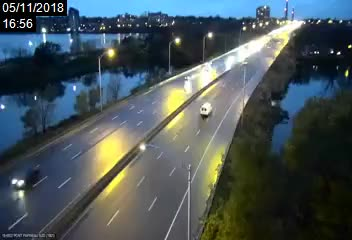personal_car: (8, 166, 41, 189), (199, 103, 214, 119)
